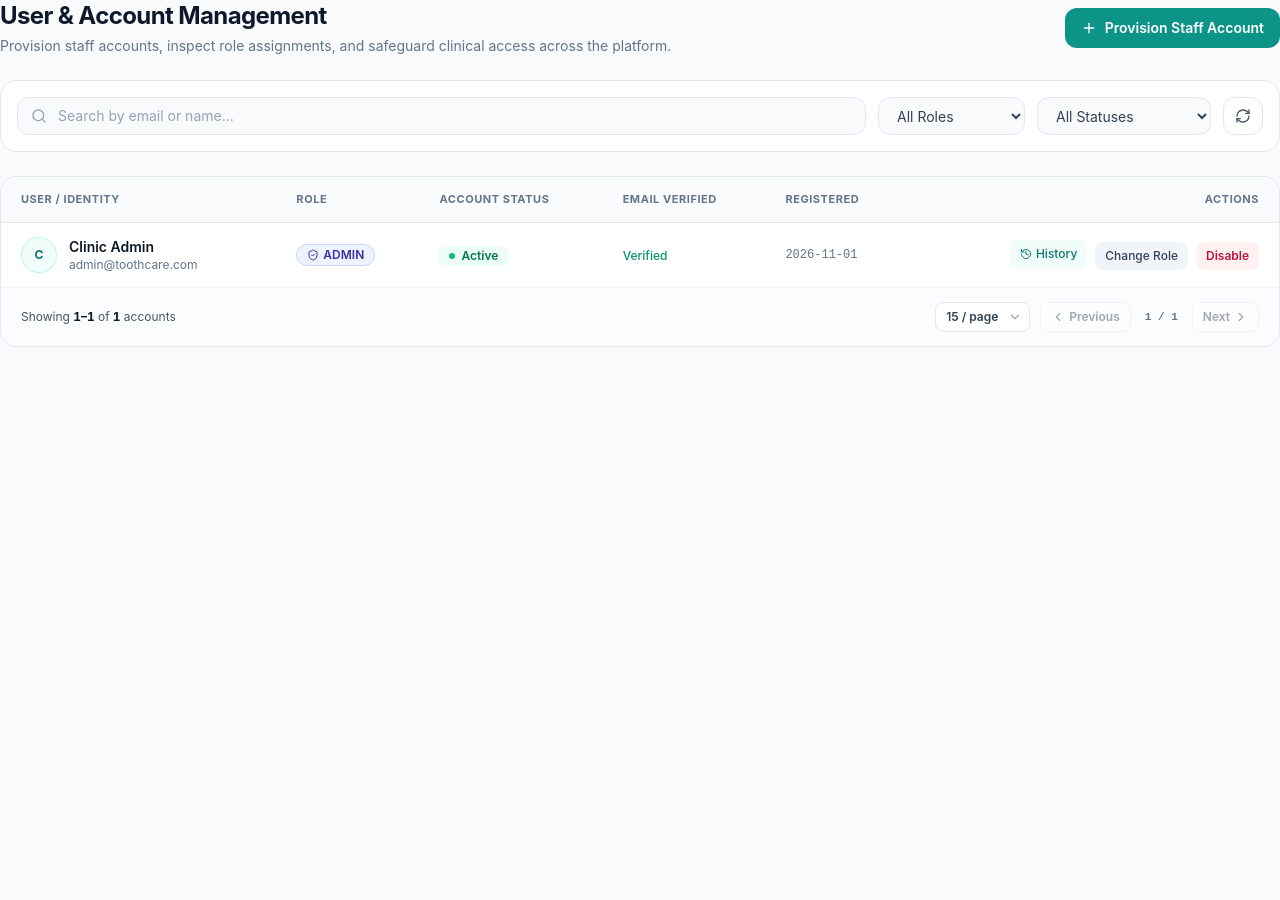
Test: Administrator Control Center Frontend Suite › renders UserManagementPage and provisions a new staff account
Expected: the text "admin@toothcare.com" is shown, [69,256,198,272]
What coordinates should you click on to do the following:
click the button "Provision Staff Account"
I would click on:
 (1172, 28)
Its box is [1065,8,1279,48].
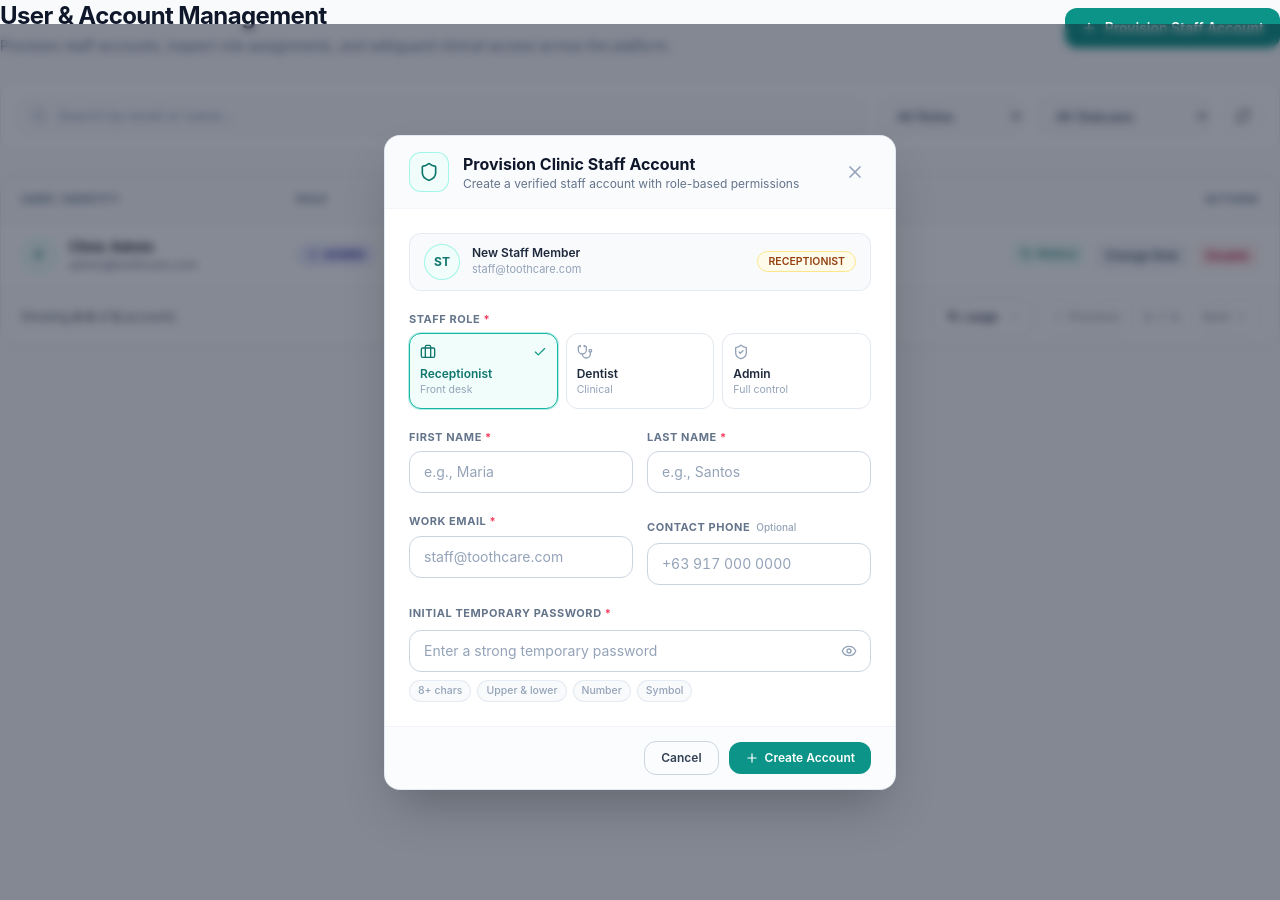
Result: the heading "Provision Clinic Staff Account" is shown at [463,154,695,174]
